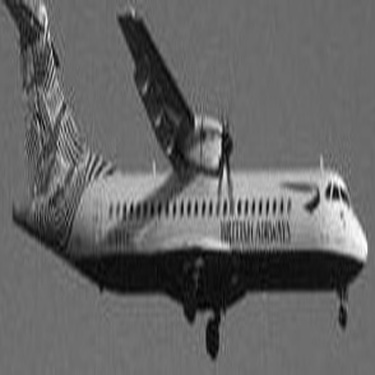airplane: (5, 4, 366, 368)
